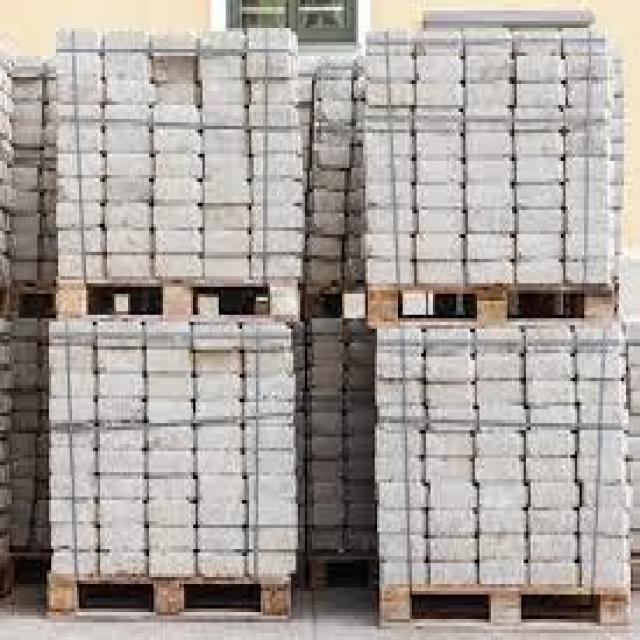bricks: (47, 10, 628, 584)
